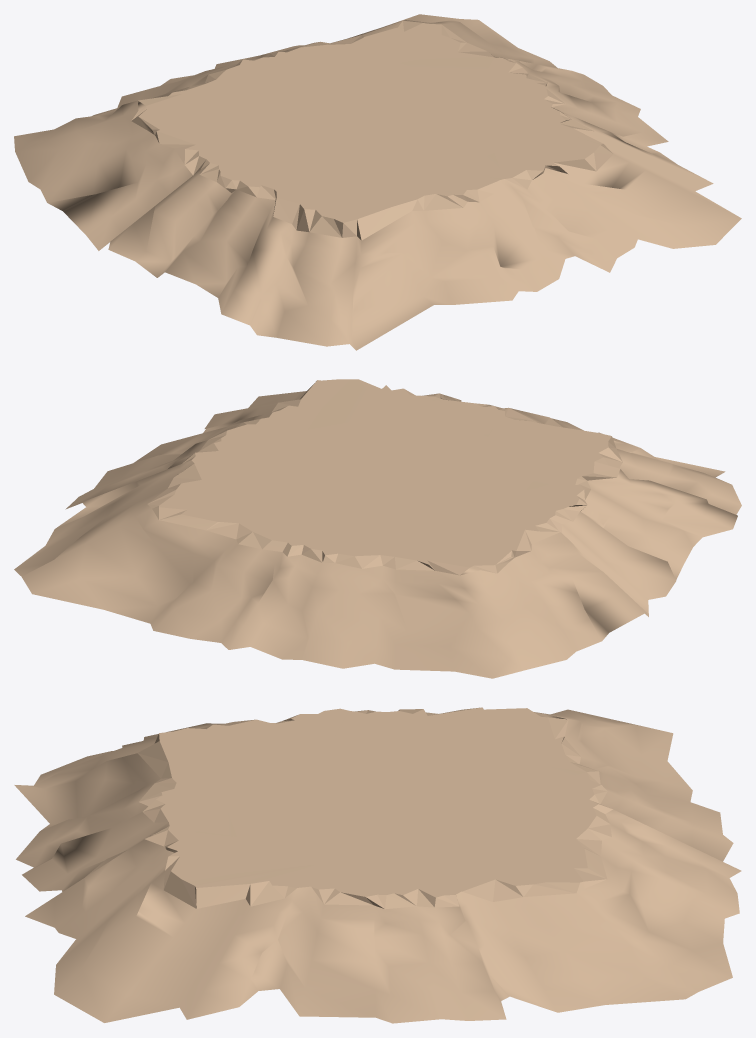
The model's file is myLowPolyIsland.fbx.
The picture shows the model from 3 angles, top to bottom: view 1: azimuth 30°, elevation 25°; view 2: azimuth 150°, elevation 25°; view 3: azimuth 270°, elevation 25°; orthographic projection. The views are drawn at different scales.
Visible parts, largest first — view 1: Cone002; view 2: Cone002; view 3: Cone002.
Boxes of the visible parts, x1=… form: Cone002: x1=14, y1=14, x2=741, y2=350; Cone002: x1=14, y1=379, x2=741, y2=678; Cone002: x1=14, y1=707, x2=741, y2=1023.
Size of the model in its own units: 121 by 16.3 by 122.
